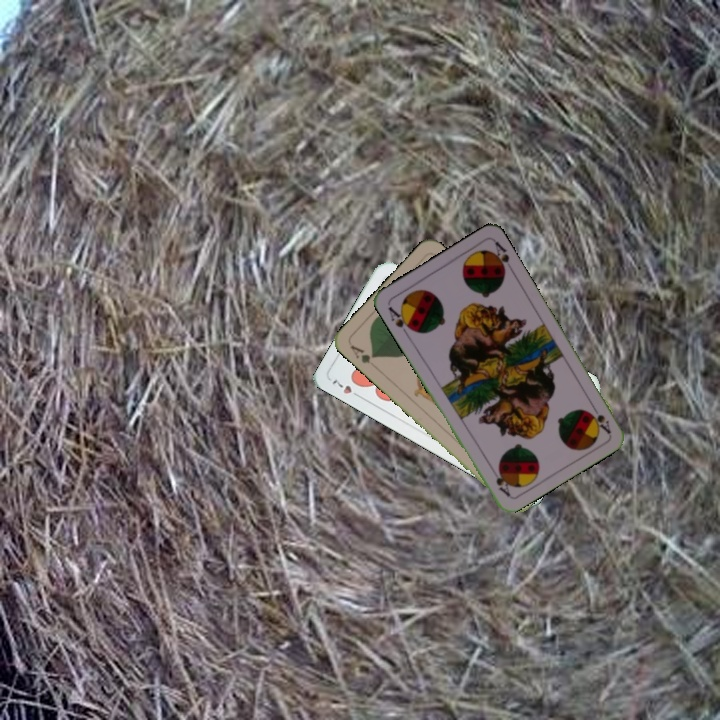GA: (346, 341, 379, 371)
H7: (328, 376, 364, 401)
SA: (384, 302, 416, 338), (584, 399, 613, 436)
